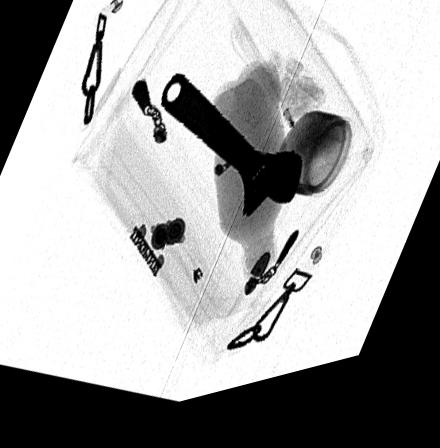Wrench: (159, 81, 304, 228)
